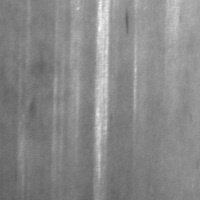scratches: (92, 0, 116, 181)
